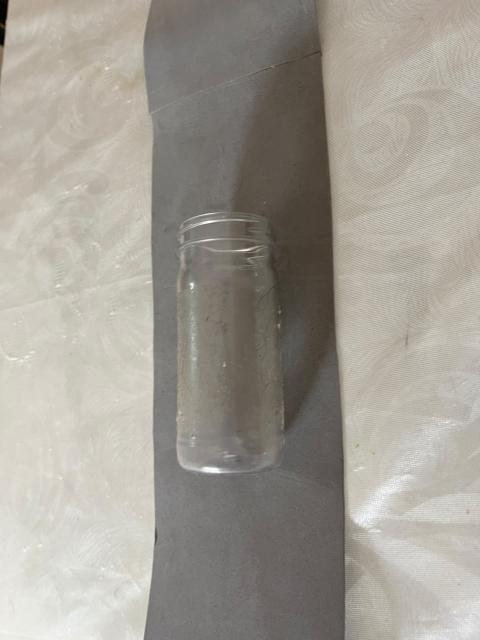PET: (147, 182, 322, 500)
